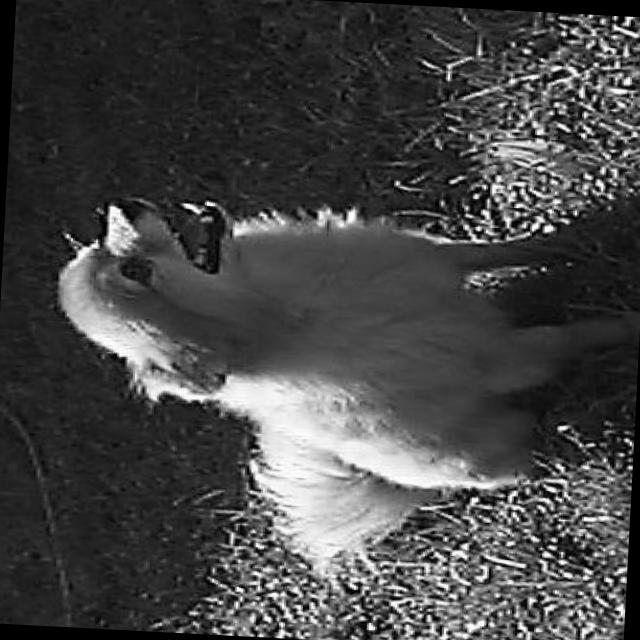sitting: (29, 174, 640, 579)
